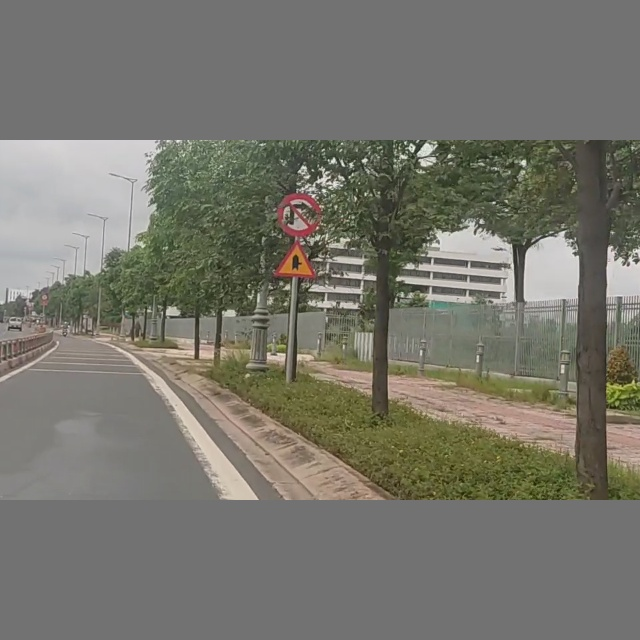P.123b: (275, 193, 323, 237)
W.207: (275, 239, 317, 281)
